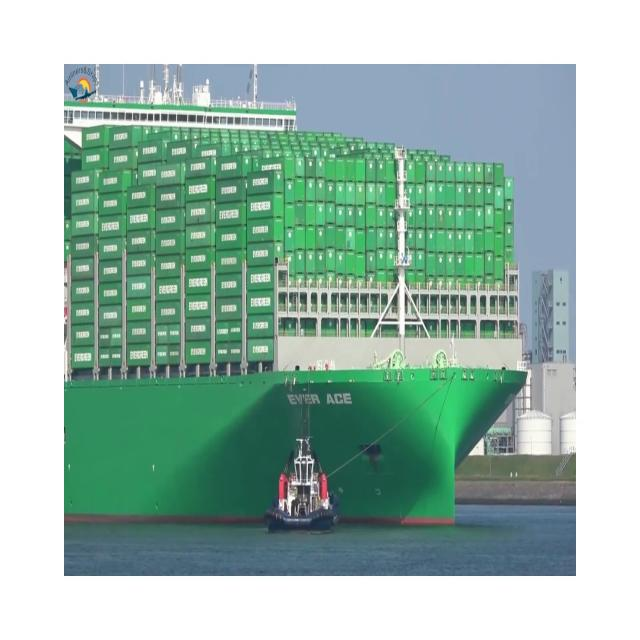OCR: (280, 375, 362, 414)
